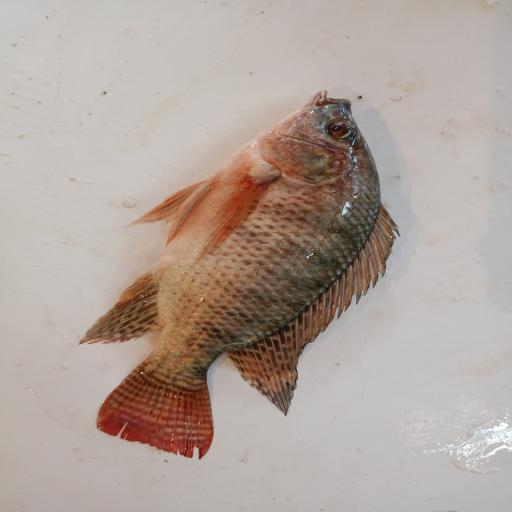Tilapia: (79, 90, 400, 459)
